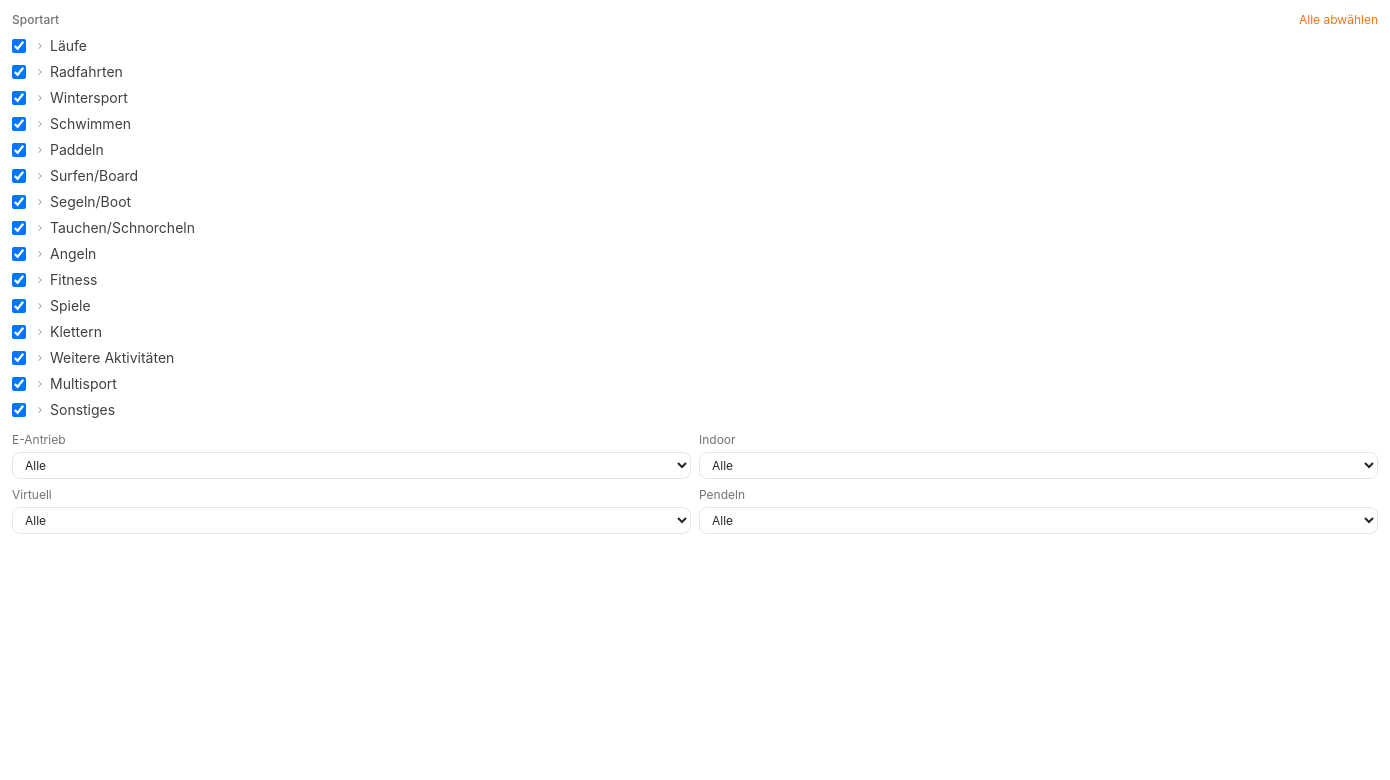
it: SportFilter › splits water sports into generated water groups
The width and height of the screenshot is (1390, 780).
Expected: the button "Schwimmen" is shown, x1=34 y1=114 x2=131 y2=134
Expected: the button "Surfen/Board" is shown, x1=34 y1=166 x2=138 y2=186
Click the button "Paddeln" at (69, 150), box x1=34 y1=140 x2=104 y2=160
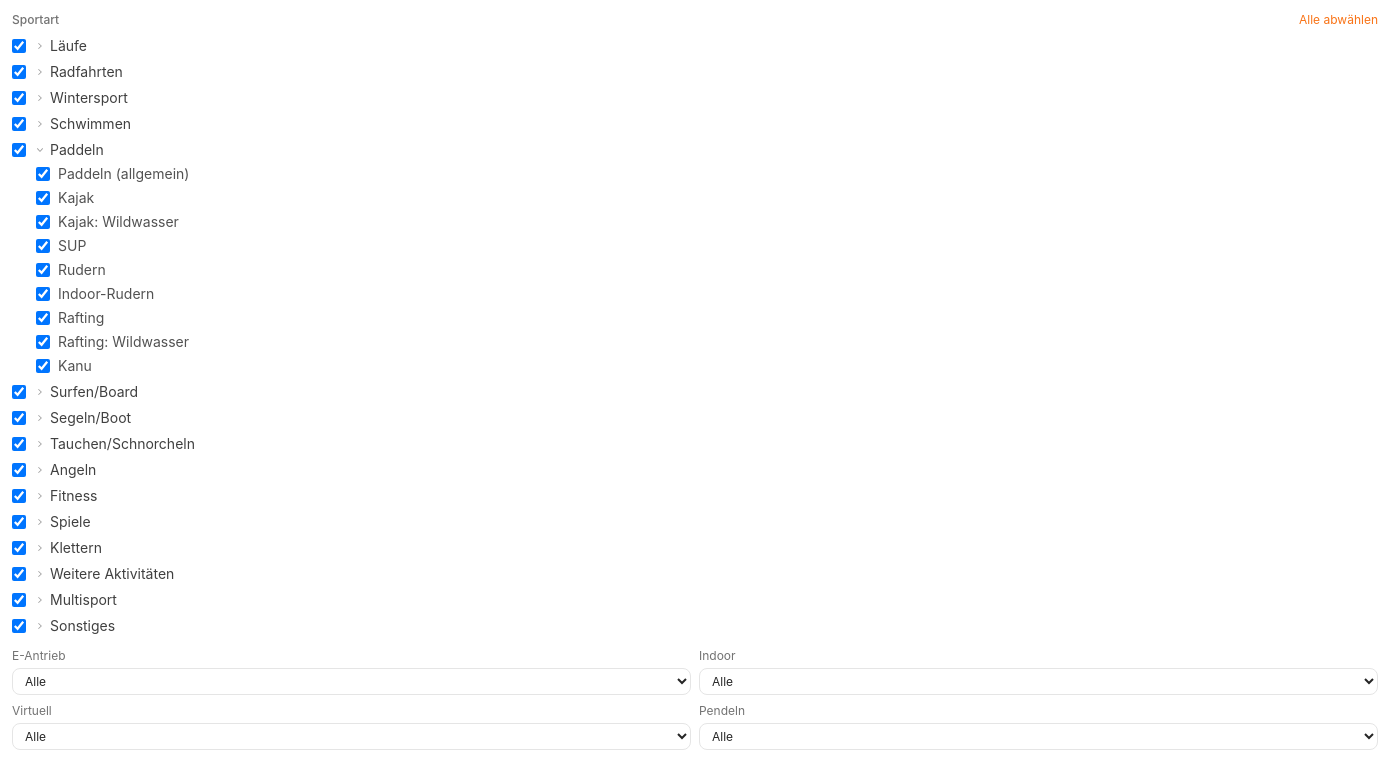
Now the text "Paddeln (allgemein)" is shown, box x1=58 y1=164 x2=189 y2=184
